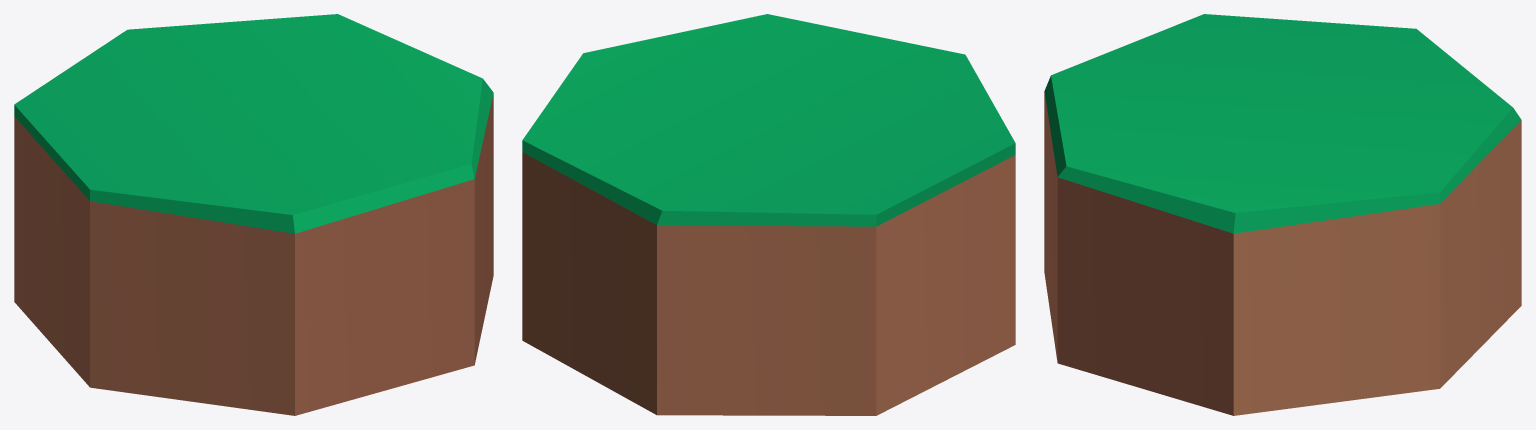
The model's file is MONTAÑA VERDE.fbx.
3 views of the same model, side by side, from view 1: azimuth 30°, elevation 25°; view 2: azimuth 150°, elevation 25°; view 3: azimuth 270°, elevation 25° (orthographic). The views are drawn at different scales.
Visible parts, largest first — view 1: sueloo.009; view 2: sueloo.009; view 3: sueloo.009.
Part boxes in pixels (box(x1,y1,x2,y2)): sueloo.009: box(14, 14, 493, 415); sueloo.009: box(522, 14, 1015, 415); sueloo.009: box(1044, 14, 1521, 415).
Bounding box in the file's own units: 3430 × 3391 × 1553.
1 material, 1 textured.
